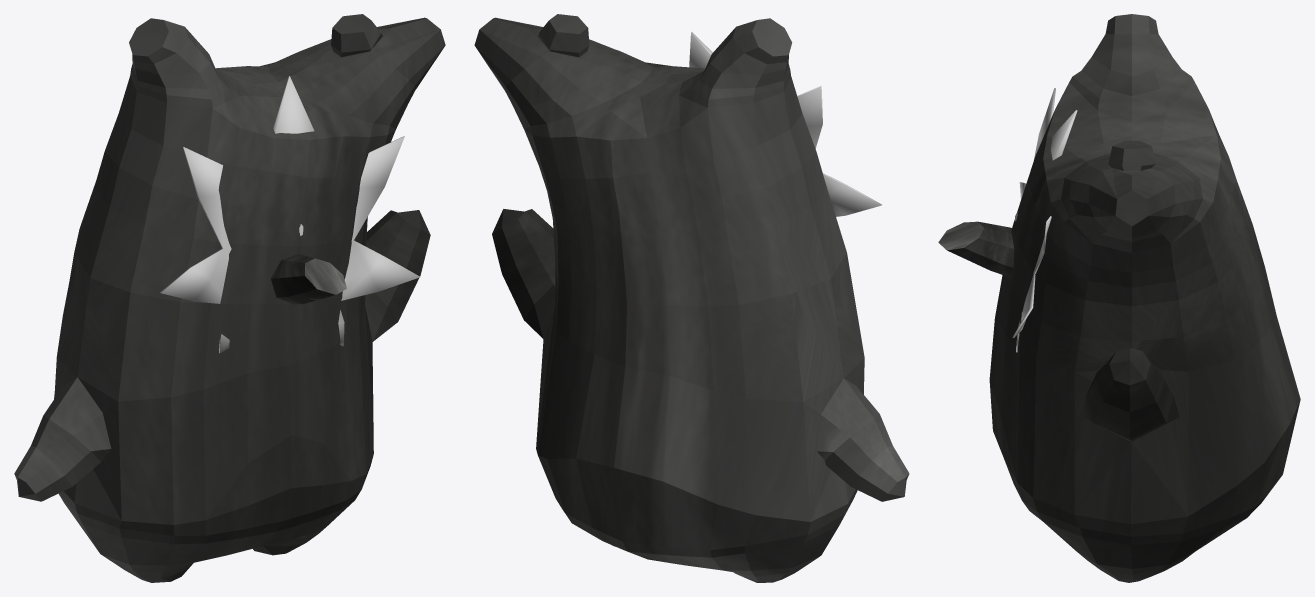
File: frame_0064.obj
3 views of the same model, side by side, from view 1: azimuth 30°, elevation 25°; view 2: azimuth 150°, elevation 25°; view 3: azimuth 270°, elevation 25° (orthographic). The views are drawn at different scales.
Visible parts, largest first — view 1: korok, leaf, nose; view 2: korok, leaf; view 3: korok, nose, leaf.
Part boxes in pixels (x1,y1,x2,y2): korok: (14,14,445,582); leaf: (160,76,420,353); nose: (271,254,346,304); korok: (474,14,909,582); leaf: (689,32,881,216); korok: (989,14,1300,582); nose: (938,221,1014,276); leaf: (1012,88,1077,352).
Bounding box in the file's own units: 1.7 × 2.14 × 1.36.
